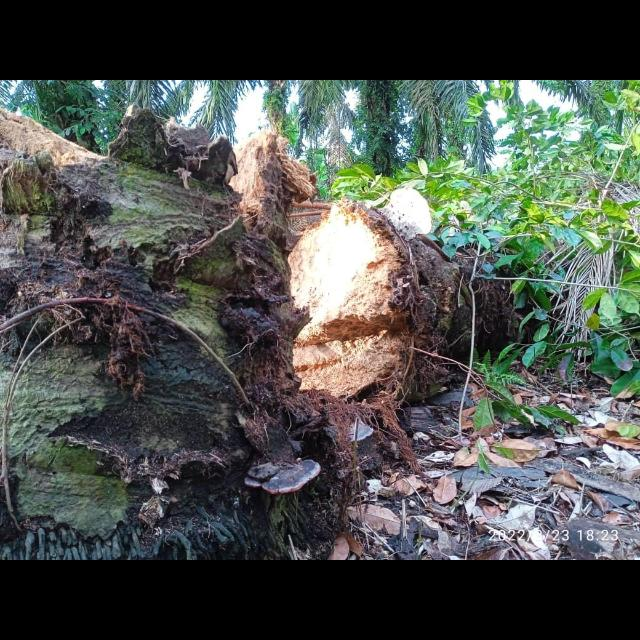ganoderma: (246, 460, 322, 496)
